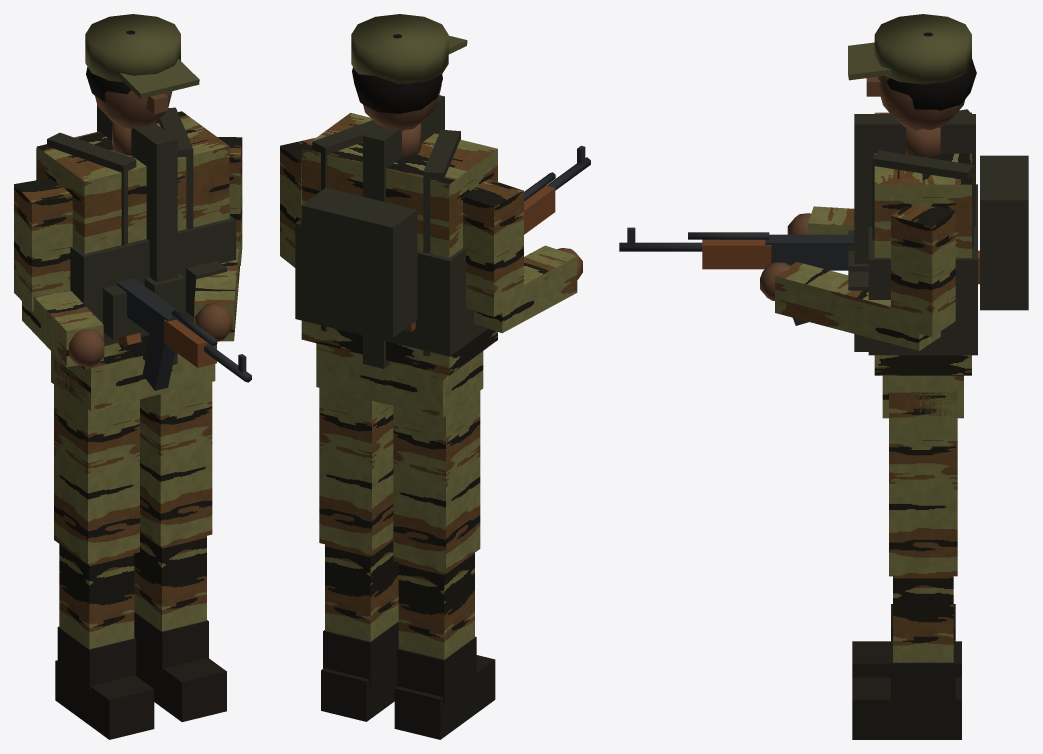
Rendered from soldier_ltte.fbx.
The picture shows the model from 3 angles, left to right: view 1: azimuth 30°, elevation 25°; view 2: azimuth 150°, elevation 25°; view 3: azimuth 270°, elevation 25°; orthographic projection.
Parts seen in each view (by area): view 1: Torso, LegR, LegL, ArmR, Head, Rifle, Pelvis, ArmL; view 2: Torso, LegR, LegL, ArmR, Head, Pelvis, ArmL, Rifle; view 3: Torso, LegL, ArmL, Head, Rifle, Pelvis, LegR, ArmR.
Part boxes in pixels (bbox=[...]): Torso: bbox=[36, 105, 236, 369]; LegR: bbox=[54, 359, 154, 739]; LegL: bbox=[134, 382, 226, 721]; ArmR: bbox=[14, 178, 104, 367]; Head: bbox=[85, 14, 199, 129]; Rifle: bbox=[117, 278, 251, 390]; Pelvis: bbox=[51, 351, 215, 411]; ArmL: bbox=[194, 137, 242, 341]; Torso: bbox=[295, 95, 497, 375]; LegR: bbox=[393, 391, 495, 739]; LegL: bbox=[319, 388, 398, 721]; ArmR: bbox=[463, 179, 582, 333]; Head: bbox=[351, 14, 467, 131]; Pelvis: bbox=[316, 343, 483, 417]; ArmL: bbox=[280, 137, 315, 267]; Rifle: bbox=[404, 145, 590, 331]; Torso: bbox=[848, 109, 1028, 375]; LegL: bbox=[852, 392, 961, 739]; ArmL: bbox=[760, 206, 955, 350]; Head: bbox=[848, 14, 976, 130]; Rifle: bbox=[619, 227, 979, 325]; Pelvis: bbox=[882, 375, 963, 418]; LegR: bbox=[852, 604, 961, 677]; ArmR: bbox=[787, 206, 854, 234].
Size of the model in its own units: 0.6769 by 1.84 by 1.01.
